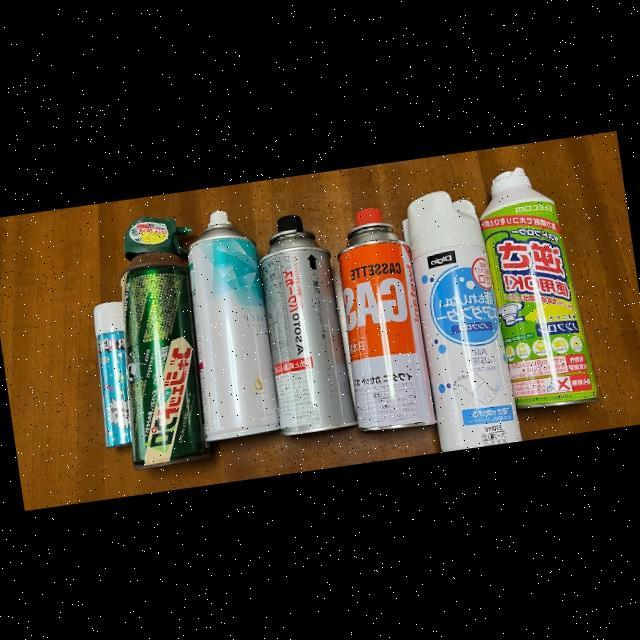chemical_spray_can: (402, 189, 521, 451), (479, 166, 597, 408), (119, 215, 208, 470), (337, 206, 435, 430), (186, 209, 279, 441), (259, 213, 356, 435), (91, 301, 129, 446)
